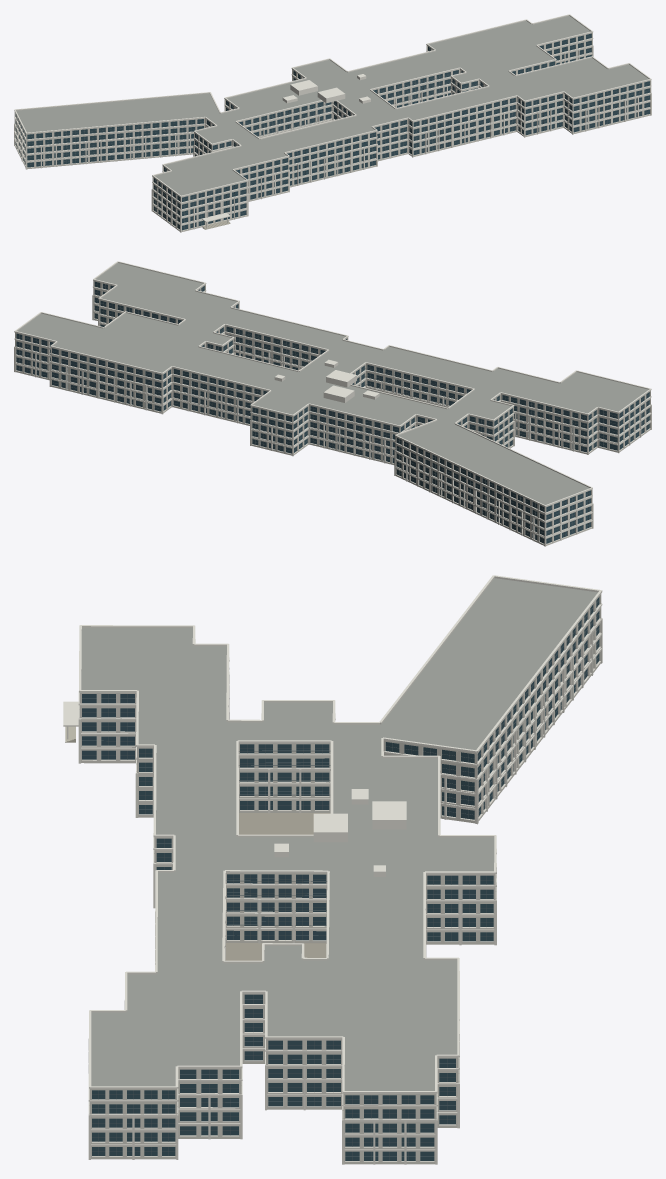
The model's file is teaching1.glb.
The picture shows the model from 3 angles, top to bottom: view 1: azimuth 30°, elevation 25°; view 2: azimuth 150°, elevation 25°; view 3: azimuth 270°, elevation 25°; orthographic projection. The views are drawn at different scales.
Visible parts, largest first — view 1: roof, wall, glass, trim, metal; view 2: roof, wall, glass, trim, metal; view 3: roof, trim, glass, wall, metal, paving.
Part boxes in pixels (x1,y1,x2,y2): roof: (16,16,648,195); wall: (14,32,651,231); glass: (15,33,649,230); trim: (14,14,651,232); metal: (17,35,649,229); roof: (17,263,648,504); wall: (15,280,650,545); glass: (16,281,649,543); trim: (14,261,651,546); metal: (16,282,649,542); roof: (81,578,597,1090); trim: (63,575,602,1164); glass: (82,597,599,1160); wall: (79,594,601,1164); metal: (82,599,599,1160); paving: (225,813,330,960).
Size of the model in its own units: 250 by 18.7 by 110.
